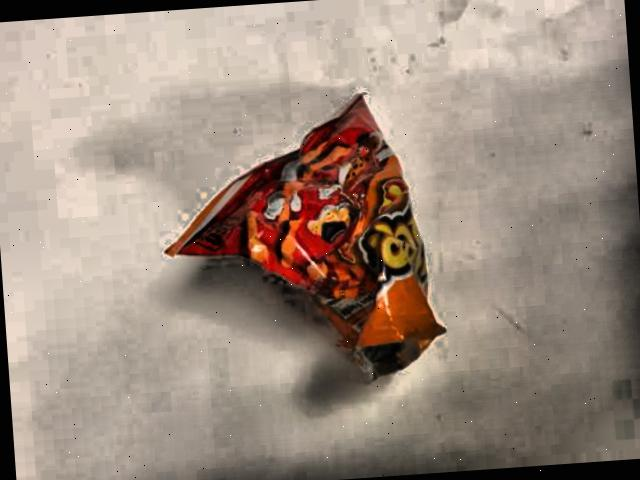Plastic: (152, 80, 494, 428)
